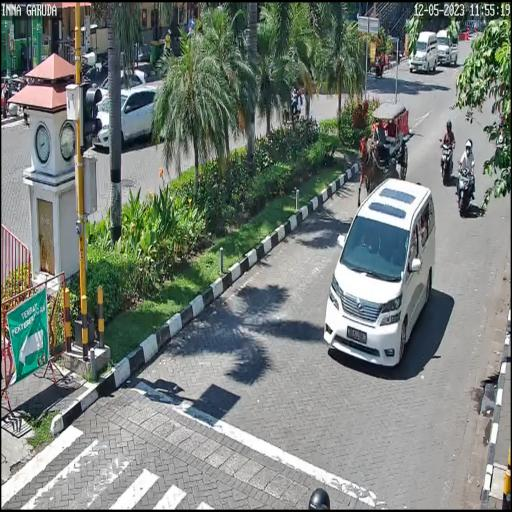mobil: (321, 172, 436, 378)
motor: (456, 157, 478, 221), (437, 135, 457, 187)
